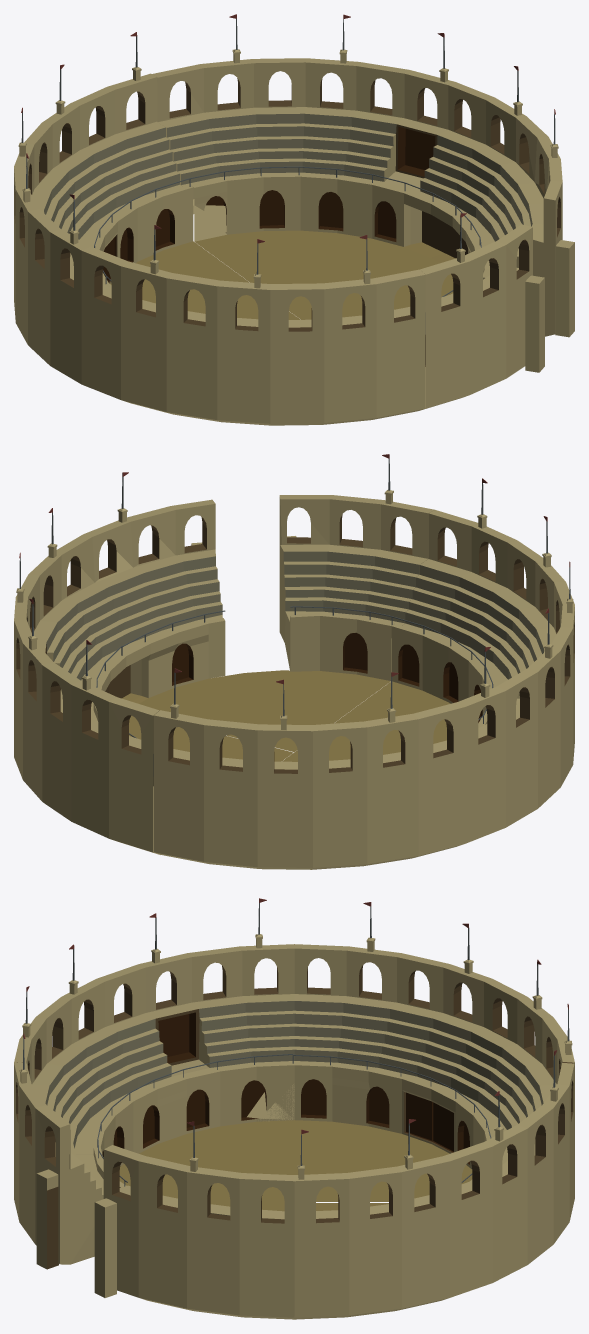
Rendered from kolezyum_paramparca.fbx.
The picture shows the model from 3 angles, top to bottom: view 1: azimuth 30°, elevation 25°; view 2: azimuth 150°, elevation 25°; view 3: azimuth 270°, elevation 25°; orthographic projection. The views are drawn at different scales.
Parts seen in each view (by area): view 1: SAG.001, SOL, SAG, SOL.001, SAG.002, SAG.003, SOL.003, SOL-PAR.003; view 2: SAG, SOL.001, SOL, SAG.001, SOL.003, SOL.002, SAG.002; view 3: SOL, SAG, SAG.001, SOL.001, SOL.002, SAG.003, SAG.004, SAG.005.
Part boxes in pixels (x1,y1,x2,y2): SAG.001: [152, 14, 525, 262]; SOL: [50, 194, 425, 425]; SAG: [14, 32, 193, 365]; SOL.001: [420, 109, 574, 409]; SAG.002: [195, 230, 439, 310]; SAG.003: [110, 241, 258, 318]; SOL.003: [289, 274, 453, 319]; SOL-PAR.003: [187, 166, 456, 215]; SAG: [154, 647, 537, 869]; SOL.001: [56, 454, 434, 703]; SOL: [391, 478, 574, 808]; SAG.001: [14, 508, 160, 854]; SOL.003: [139, 670, 390, 751]; SOL.002: [295, 681, 450, 760]; SAG.002: [129, 715, 293, 761]; SOL: [14, 898, 294, 1166]; SAG: [294, 902, 574, 1198]; SAG.001: [294, 1050, 574, 1319]; SOL.001: [14, 1033, 294, 1319]; SOL.002: [119, 1120, 294, 1201]; SAG.003: [294, 1120, 472, 1201]; SAG.004: [405, 1092, 431, 1141]; SAG.005: [432, 1102, 453, 1152].
Bounding box in the file's own units: 543 × 207 × 543.
